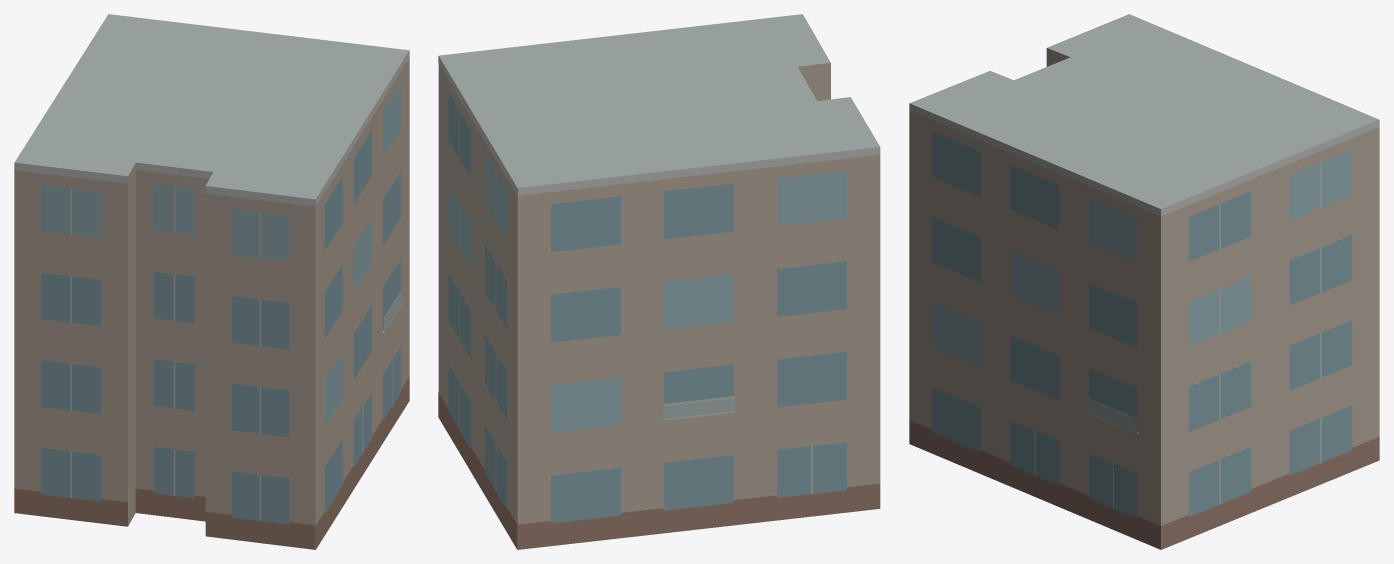
Rendered from survey-upis-32752102.glb.
3 views of the same model, side by side, from view 1: azimuth 30°, elevation 25°; view 2: azimuth 150°, elevation 25°; view 3: azimuth 270°, elevation 25° (orthographic). The views are drawn at different scales.
Parts seen in each view (by area): view 1: survey-upis-32752102.tmp; view 2: survey-upis-32752102.tmp; view 3: survey-upis-32752102.tmp.
Part boxes in pixels (bbox=[...]): survey-upis-32752102.tmp: bbox=[14, 14, 409, 549]; survey-upis-32752102.tmp: bbox=[438, 14, 880, 549]; survey-upis-32752102.tmp: bbox=[909, 14, 1379, 549].
Bounding box in the file's own units: 13.96 × 11.35 × 14.2.
